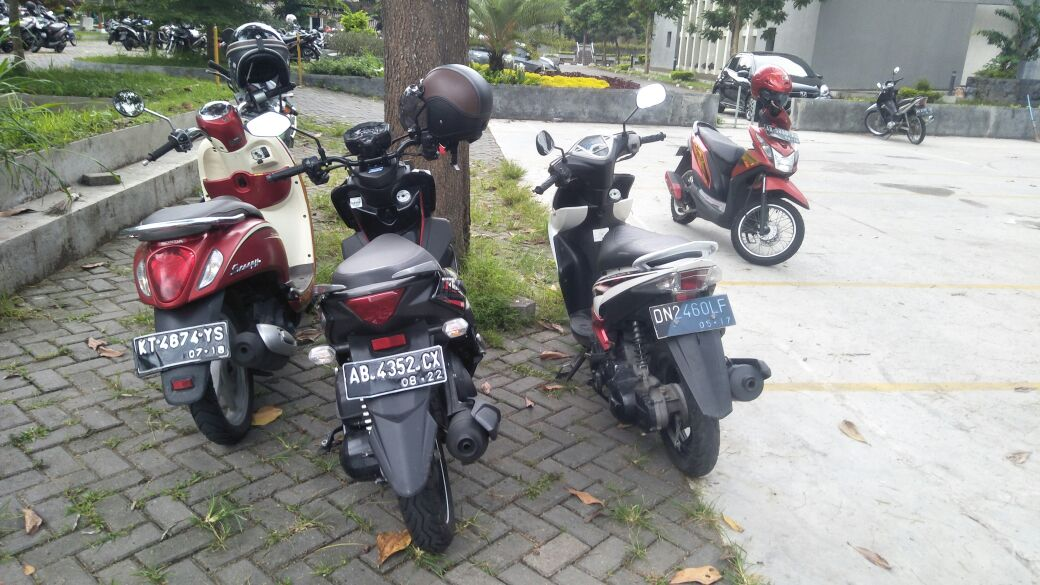plate: (341, 347, 446, 395), (132, 323, 231, 366), (646, 298, 739, 330)
